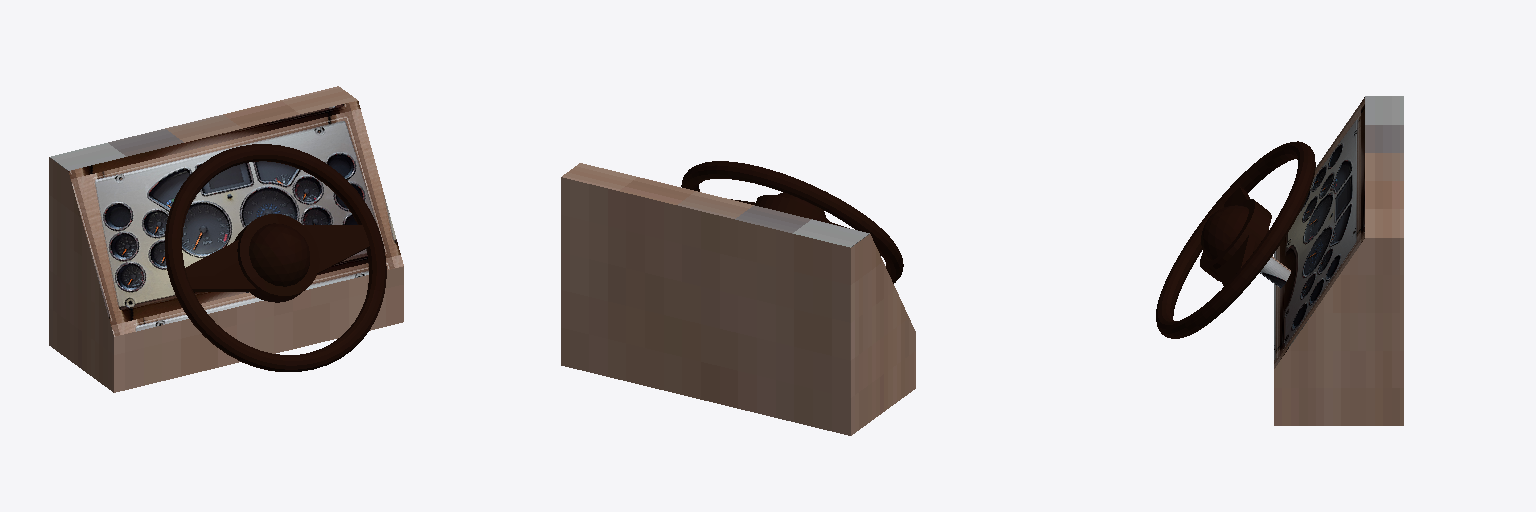
3 views of the same model, side by side, from view 1: azimuth 30°, elevation 25°; view 2: azimuth 150°, elevation 25°; view 3: azimuth 270°, elevation 25° (orthographic).
Parts seen in each view (by area): view 1: console_Cube.001; view 2: console_Cube.001; view 3: console_Cube.001.
Part boxes in pixels (x1,y1,x2,y2): console_Cube.001: (49,86,403,392); console_Cube.001: (561,161,915,435); console_Cube.001: (1156,96,1403,425).
Size of the model in its own units: 1.26 by 0.8271 by 0.9365.
1 materials, 1 textured.